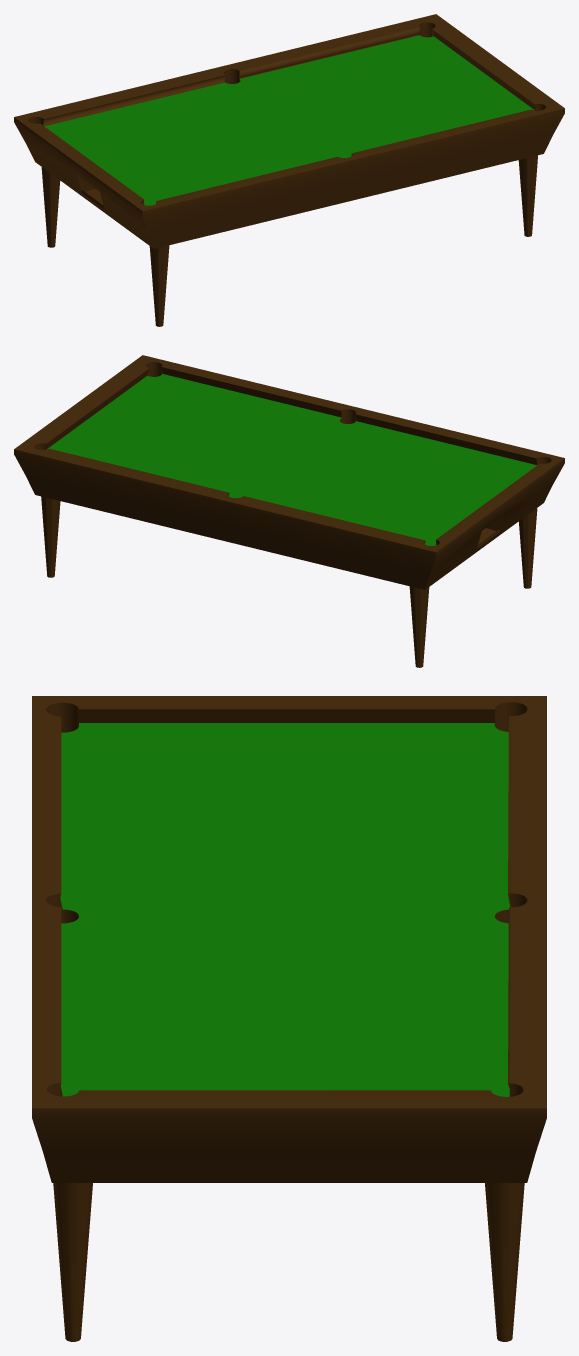
Rendered from PoolTable.fbx.
3 views of the same model, one above another, from view 1: azimuth 30°, elevation 25°; view 2: azimuth 150°, elevation 25°; view 3: azimuth 270°, elevation 25° (orthographic). The views are drawn at different scales.
Visible parts, largest first — view 1: Cube.002; view 2: Cube.002; view 3: Cube.002.
Boxes of the visible parts, x1,y1,x2,y2 form: Cube.002: (14,14,564,326); Cube.002: (14,355,564,667); Cube.002: (32,696,546,1341).
Size of the model in its own units: 349 by 101 by 184.
